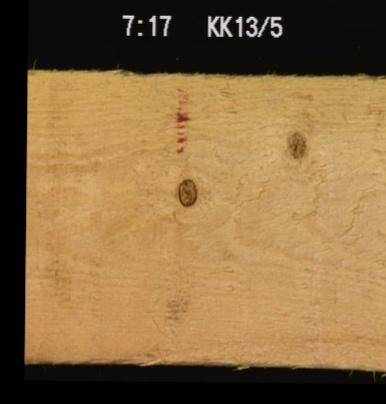dry_knot: (282, 127, 309, 158), (174, 176, 198, 207)
wave: (70, 342, 161, 367)
